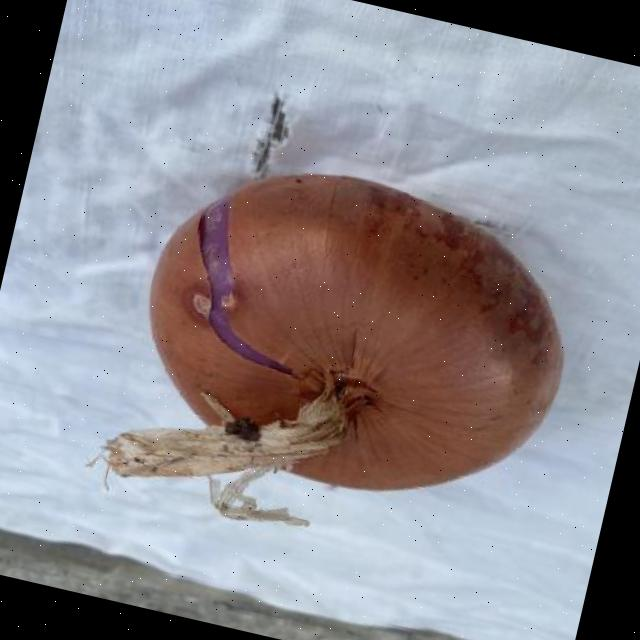Onion: (98, 174, 562, 525)
